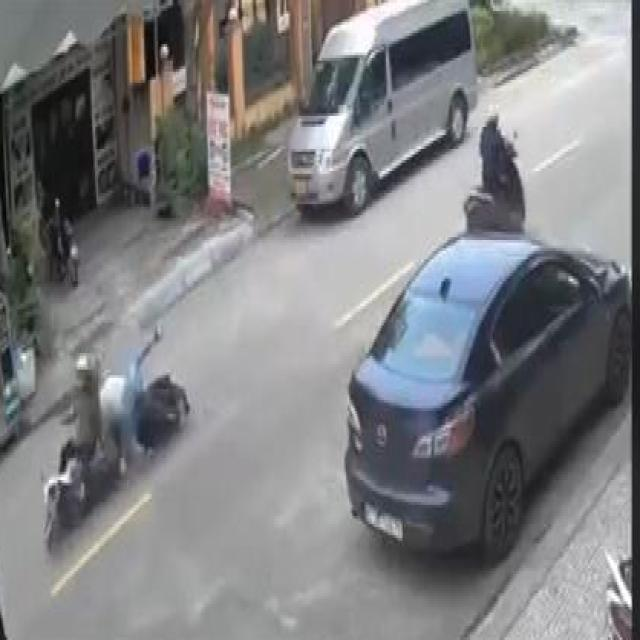accident: (37, 286, 193, 554)
